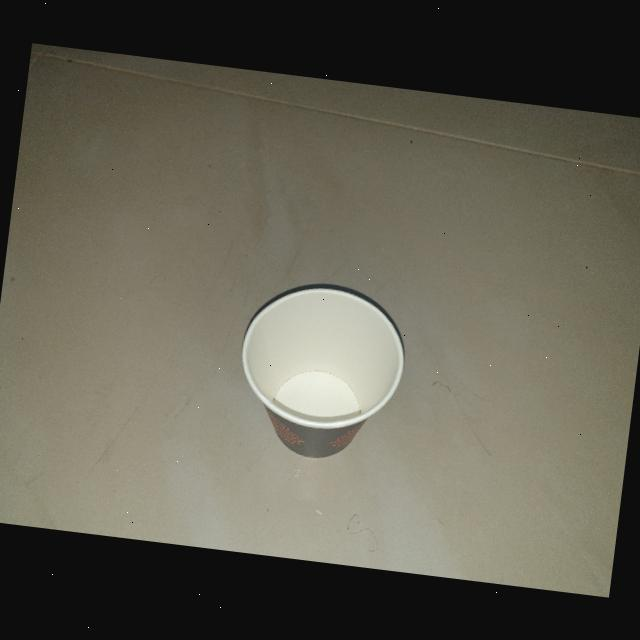trash: (222, 271, 414, 473)
